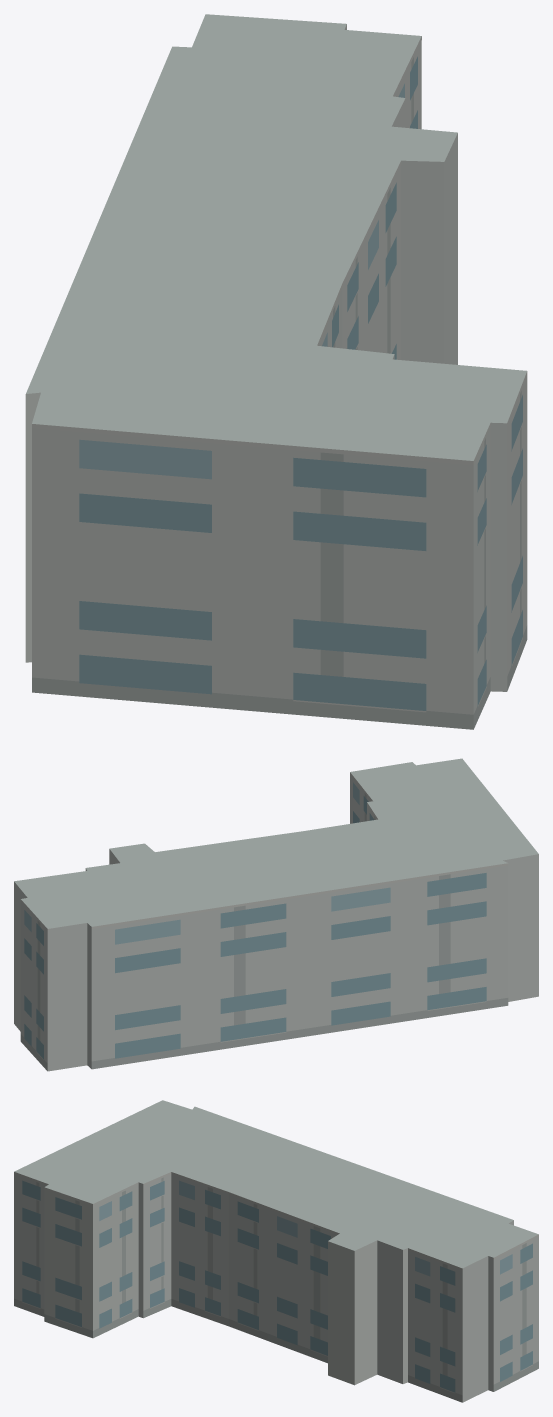
Rendered from survey-upis-32977374.glb.
3 views of the same model, one above another, from view 1: azimuth 30°, elevation 25°; view 2: azimuth 150°, elevation 25°; view 3: azimuth 270°, elevation 25° (orthographic). The views are drawn at different scales.
Parts seen in each view (by area): view 1: survey-upis-32977374.tmp; view 2: survey-upis-32977374.tmp; view 3: survey-upis-32977374.tmp.
Part boxes in pixels (left/top/right/bottom): survey-upis-32977374.tmp: left=25, top=14, right=527, bottom=729; survey-upis-32977374.tmp: left=14, top=758, right=538, bottom=1071; survey-upis-32977374.tmp: left=14, top=1100, right=538, bottom=1402.
Size of the model in its own units: 40.98 by 15.25 by 54.01.
